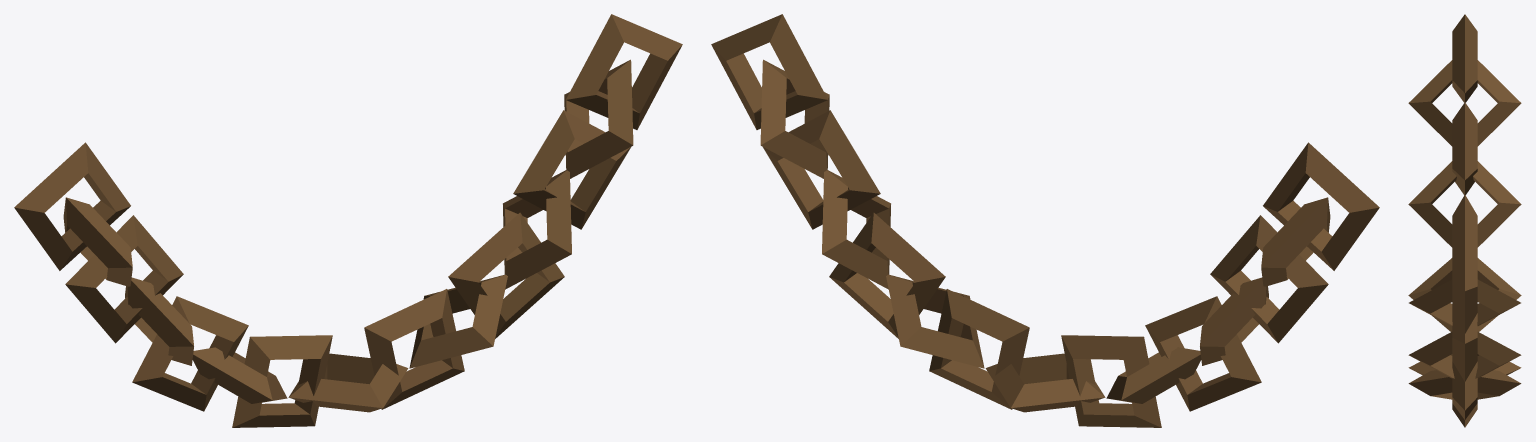
File: Chain_4_Brown.fbx
The picture shows the model from 3 angles, left to right: view 1: azimuth 30°, elevation 25°; view 2: azimuth 150°, elevation 25°; view 3: azimuth 270°, elevation 25°; orthographic projection. The views are drawn at different scales.
Parts seen in each view (by area): view 1: Chain_4_Brown; view 2: Chain_4_Brown; view 3: Chain_4_Brown.
Boxes of the visible parts, x1=… form: Chain_4_Brown: x1=14, y1=14, x2=682, y2=427; Chain_4_Brown: x1=711, y1=14, x2=1379, y2=427; Chain_4_Brown: x1=1408, y1=14, x2=1521, y2=427.
Bounding box in the file's own units: 120 × 58.21 × 21.5.
